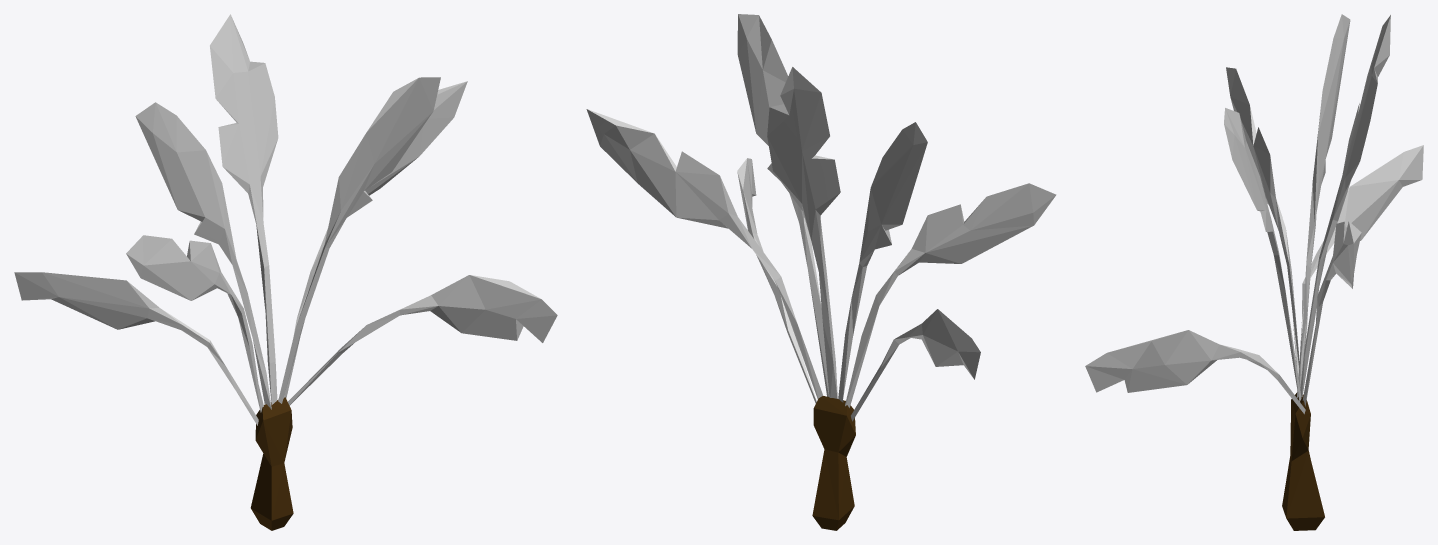
The model's file is bushel.fbx.
3 renders of one model, left to right at view 1: azimuth 30°, elevation 25°; view 2: azimuth 150°, elevation 25°; view 3: azimuth 270°, elevation 25°, orthographic. The views are drawn at different scales.
Visible parts, largest first — view 1: SM_Plant_PalmBush_01; view 2: SM_Plant_PalmBush_01; view 3: SM_Plant_PalmBush_01.
Boxes of the visible parts, x1,y1,x2,y2 form: SM_Plant_PalmBush_01: (14,14,557,530); SM_Plant_PalmBush_01: (586,14,1056,530); SM_Plant_PalmBush_01: (1085,14,1423,530).
Bounding box in the file's own units: 2839 × 3104 × 1860.
